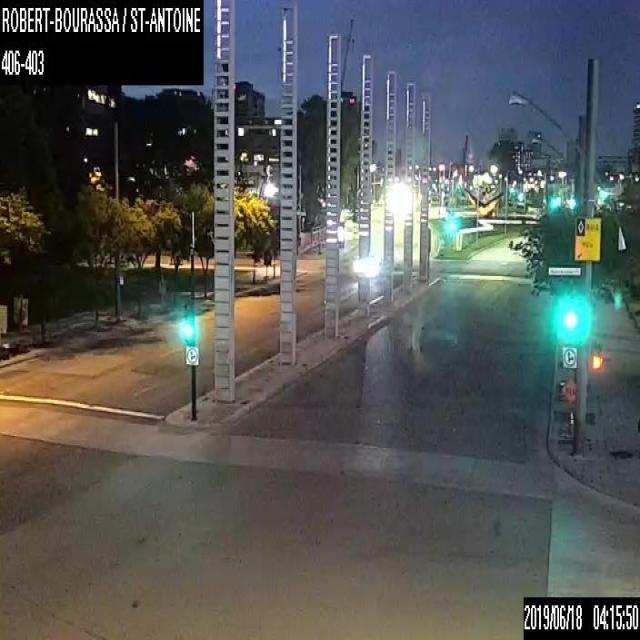construction: (561, 379, 575, 404)
